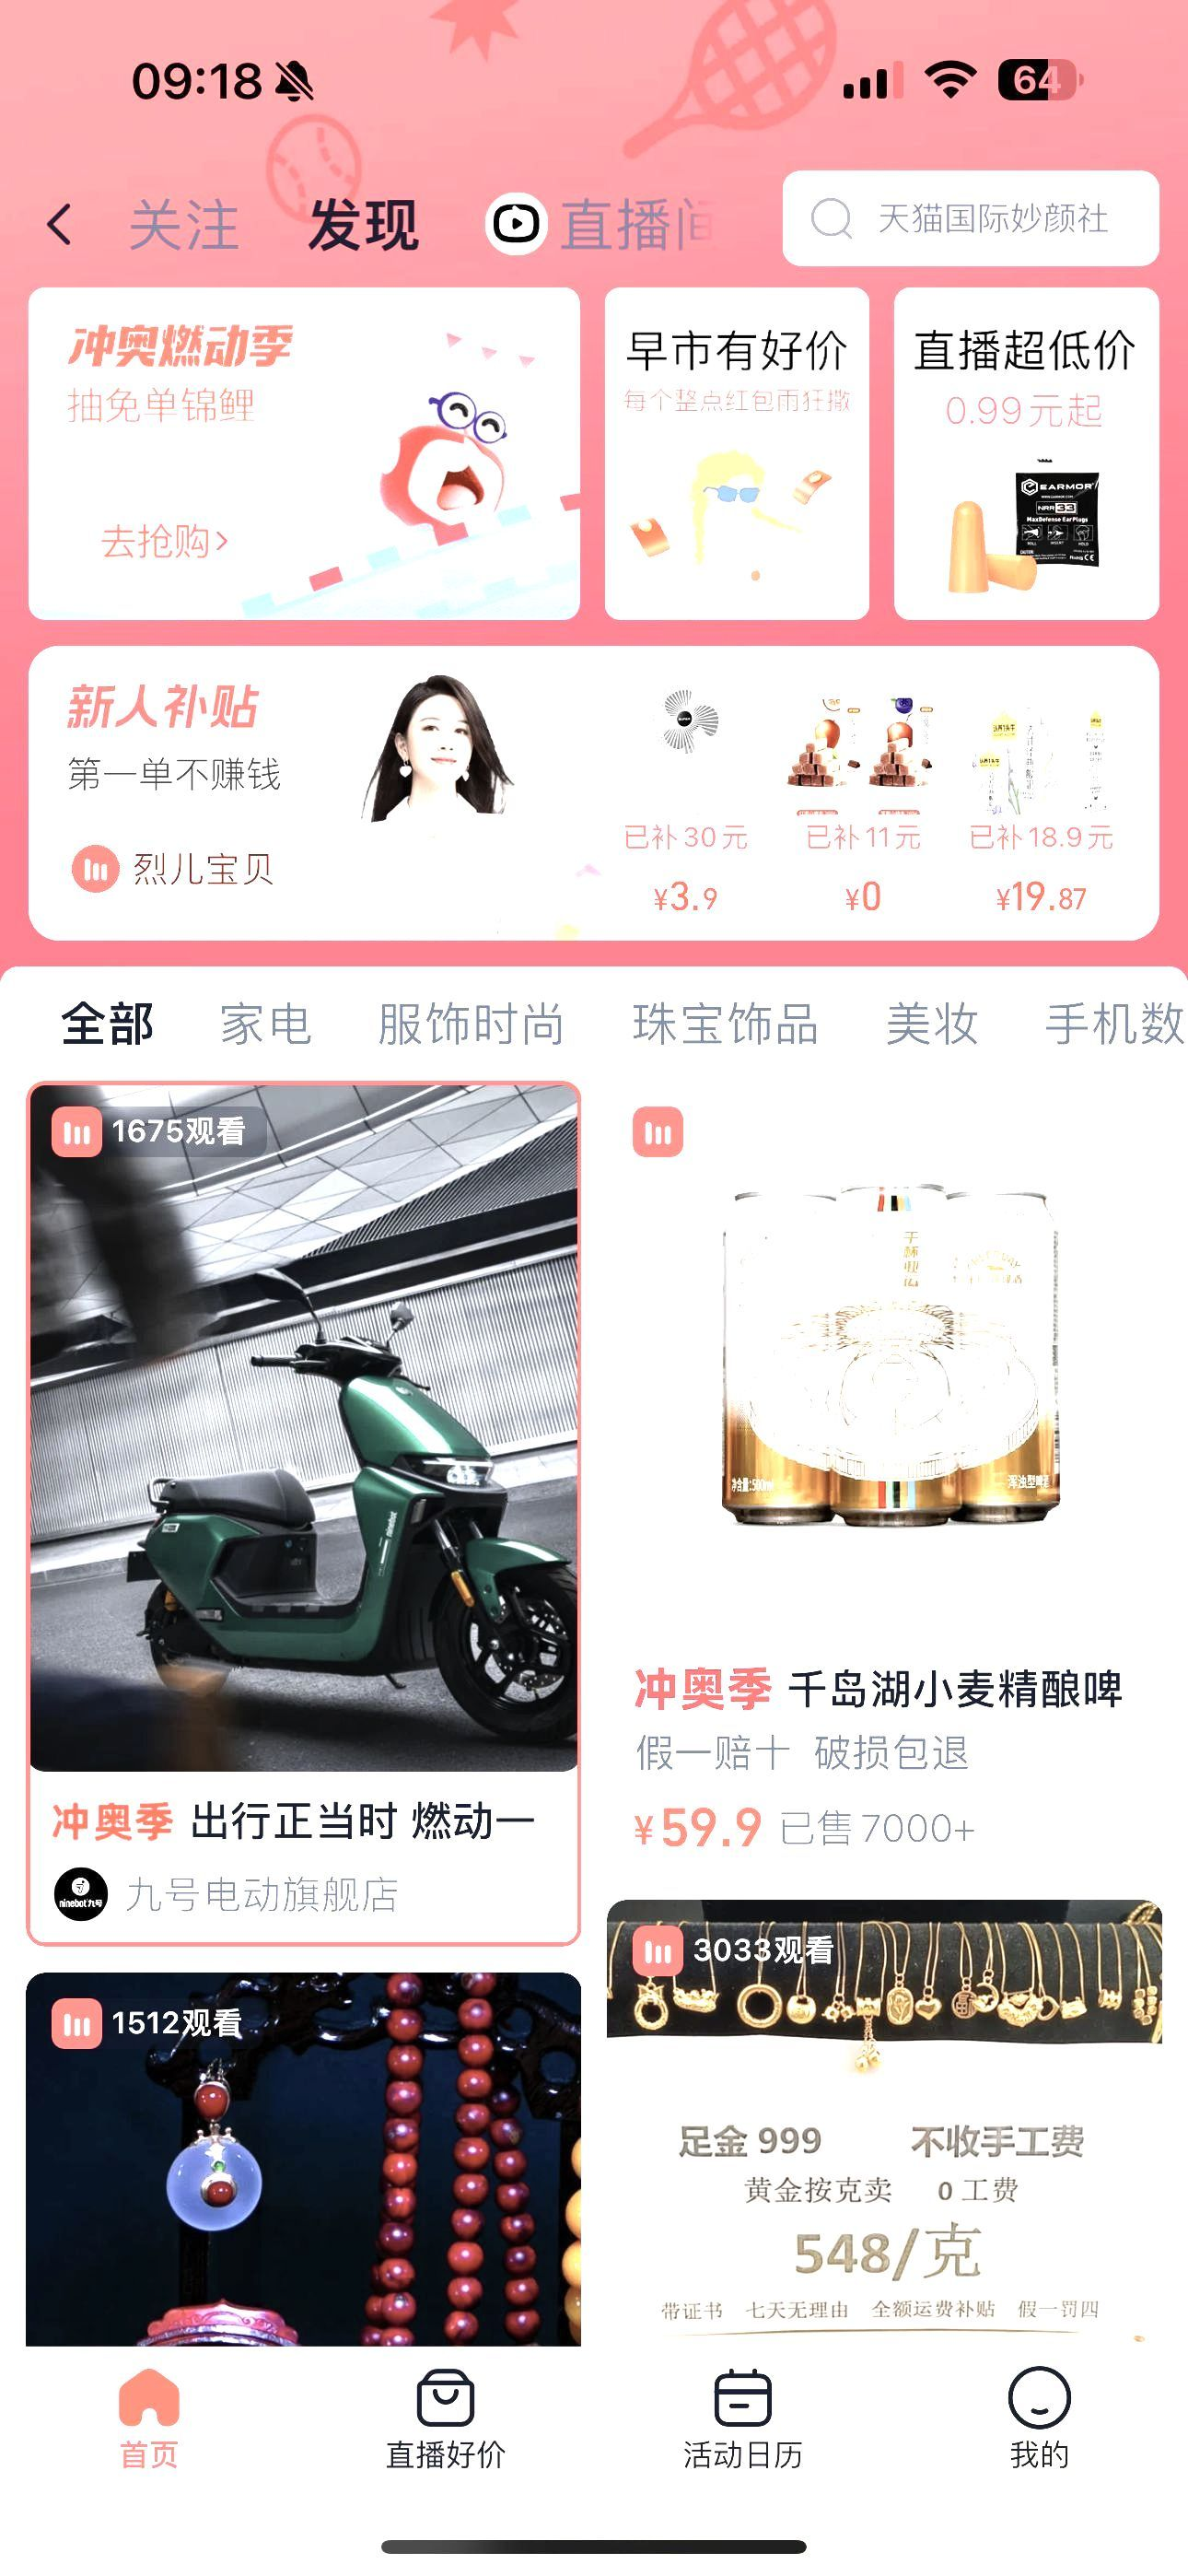item: (3, 1066, 592, 1963), (606, 1061, 1181, 1948)
op_bar: (16, 140, 1178, 291)
seckill: (2, 619, 1167, 973)
